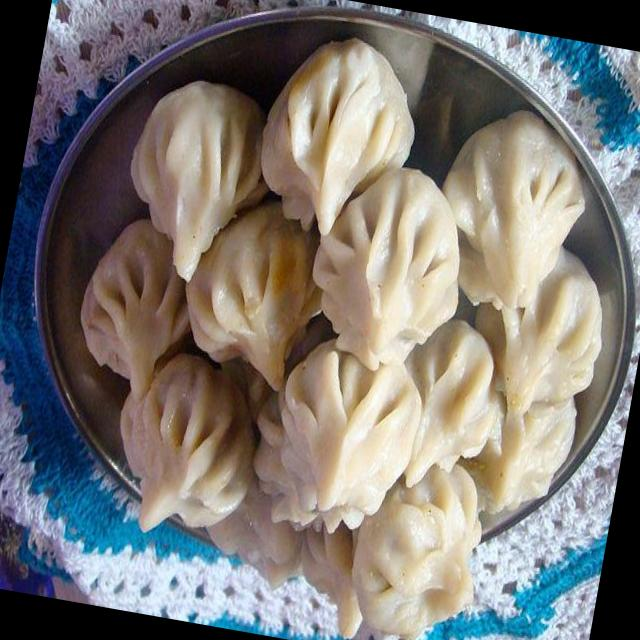modak: (183, 150, 520, 612)
